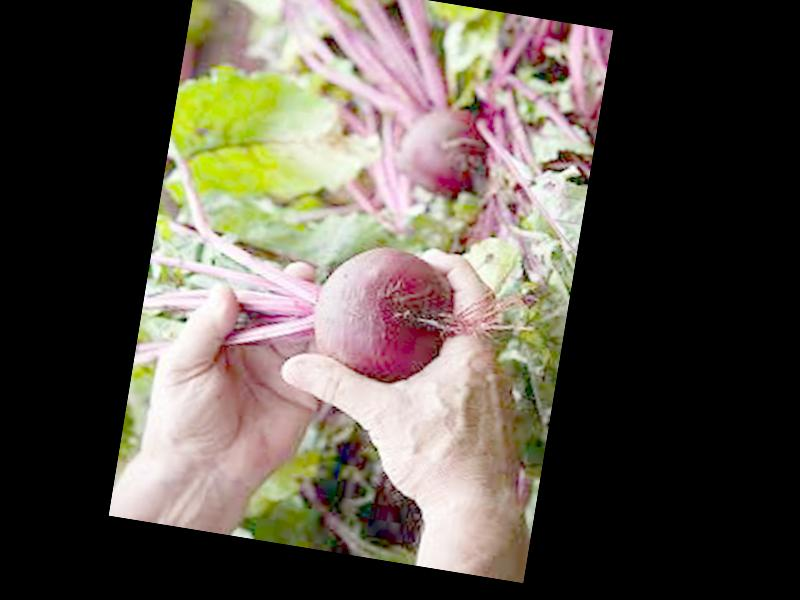Beet: (139, 138, 474, 394)
